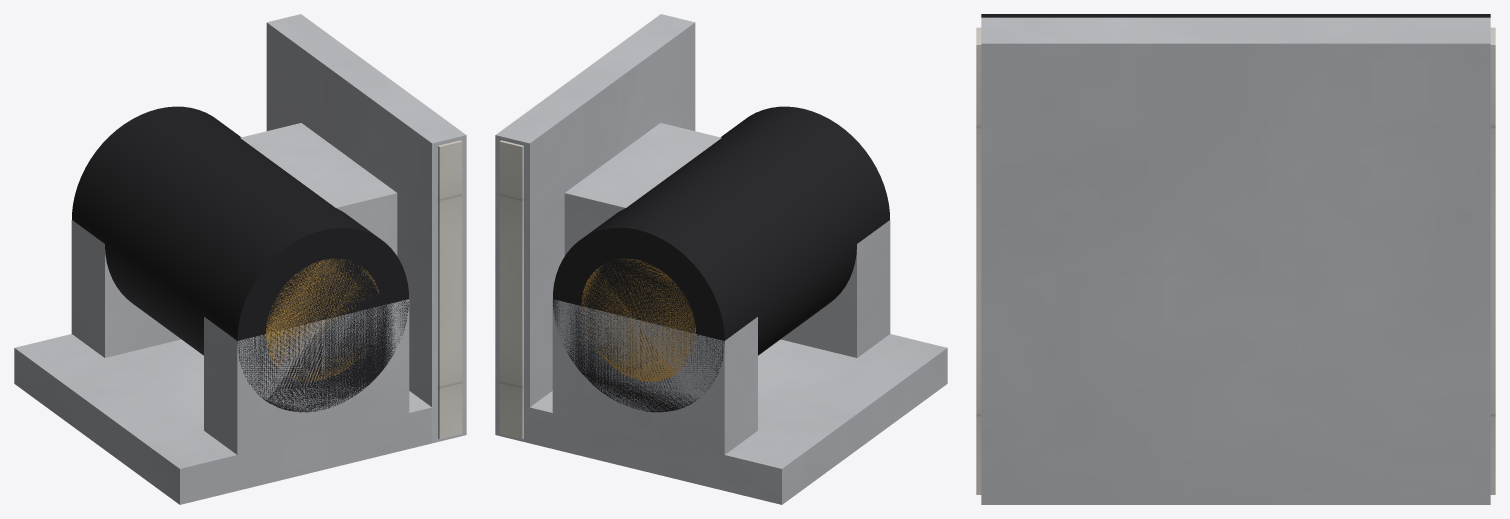
The model's file is robo00_hinge_s_bent.glb.
3 views of the same model, side by side, from view 1: azimuth 30°, elevation 25°; view 2: azimuth 150°, elevation 25°; view 3: azimuth 270°, elevation 25° (orthographic). The views are drawn at different scales.
Parts seen in each view (by area): view 1: motor, base_block, half_b_block, half_b_foil, motor_caps; view 2: base_block, motor, half_b_block, half_b_foil, motor_caps; view 3: half_b_block, base_block, half_b_foil, motor.
Part boxes in pixels (x1,y1,x2,y2): motor: (72,106,408,412); base_block: (14,220,466,504); half_b_block: (240,14,466,442); half_b_foil: (438,140,462,439); motor_caps: (266,259,379,381); base_block: (495,220,947,504); motor: (553,106,889,412); half_b_block: (495,14,721,434); half_b_foil: (499,140,523,439); motor_caps: (581,258,695,381); half_b_block: (981,17,1490,504); base_block: (981,449,1490,504); half_b_foil: (976,27,1495,494); motor: (981,14,1490,17).
Bounding box in the file's own units: 0.4 × 0.4 × 0.408.
Materials: 4 (3 with a texture image).
